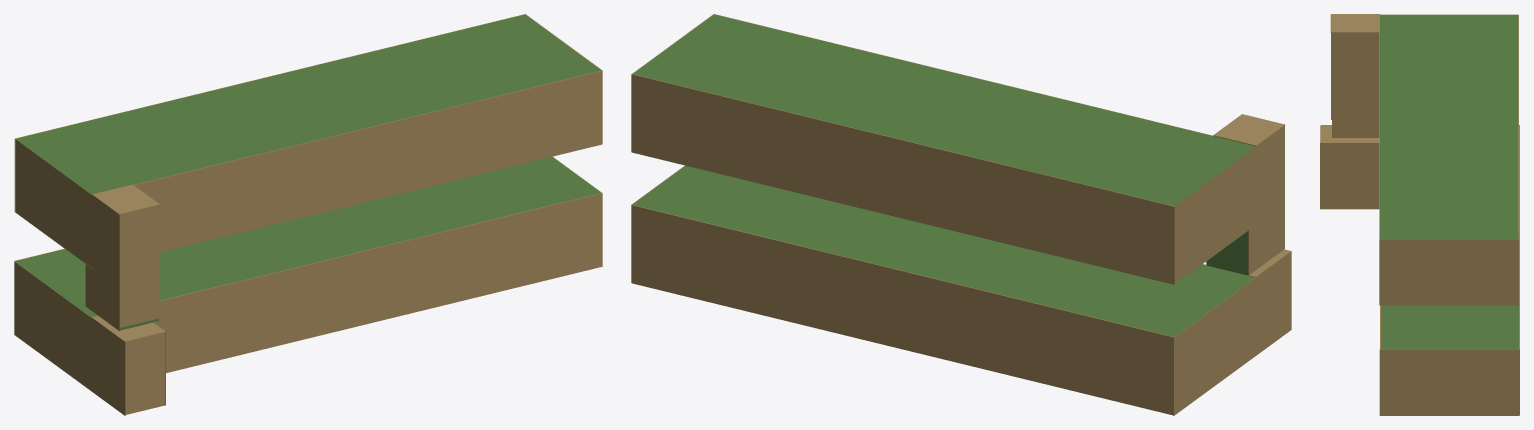
File: school.rouka.fbx
The picture shows the model from 3 angles, left to right: view 1: azimuth 30°, elevation 25°; view 2: azimuth 150°, elevation 25°; view 3: azimuth 270°, elevation 25°; orthographic projection. The views are drawn at different scales.
Visible parts, largest first — view 1: floor2F, floor1F; view 2: floor2F, floor1F, stair2F; view 3: floor2F, floor1F.
Boxes of the visible parts, left/top/right/bottom form: floor2F: left=14, top=14, right=602, bottom=331; floor1F: left=14, top=156, right=602, bottom=415; floor2F: left=631, top=14, right=1285, bottom=284; floor1F: left=631, top=165, right=1291, bottom=415; stair2F: left=1206, top=231, right=1247, bottom=275; floor2F: left=1330, top=14, right=1518, bottom=305; floor1F: left=1320, top=125, right=1519, bottom=415.
Size of the model in its own units: 65.45 by 24.17 by 24.61.
